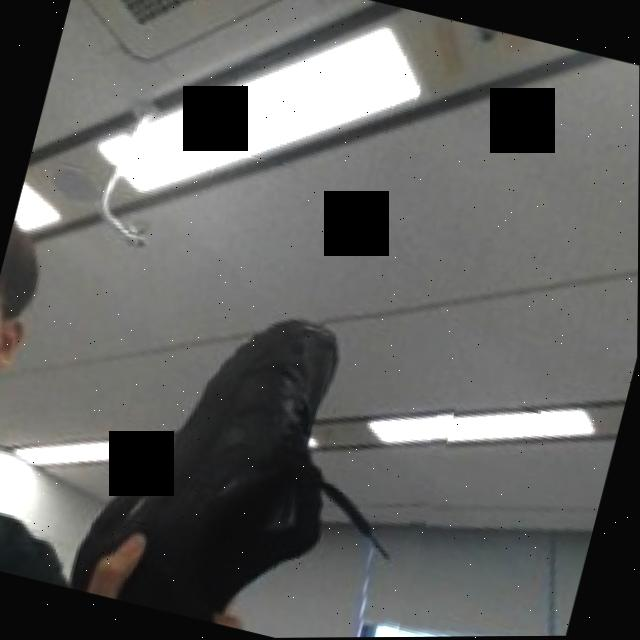shoe: (47, 257, 472, 640)
